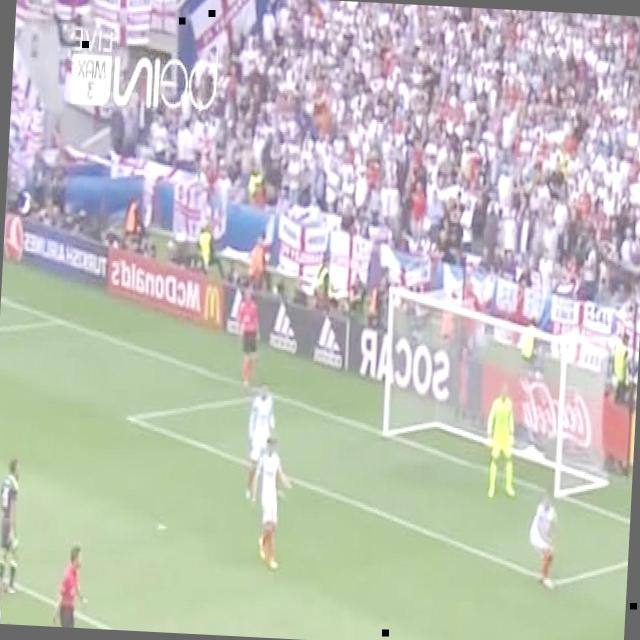player-white: (248, 437, 294, 575), (484, 384, 520, 500), (244, 380, 278, 500), (52, 542, 92, 628), (526, 492, 560, 591), (0, 458, 24, 597), (236, 288, 264, 387), (0, 574, 14, 624)
